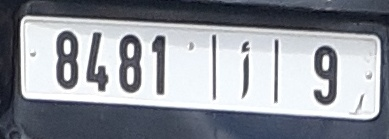1: (146, 32, 172, 98)
4: (84, 29, 113, 94)
8: (51, 26, 82, 92), (116, 29, 145, 96)
9: (307, 40, 342, 108)
a: (235, 36, 254, 103)
